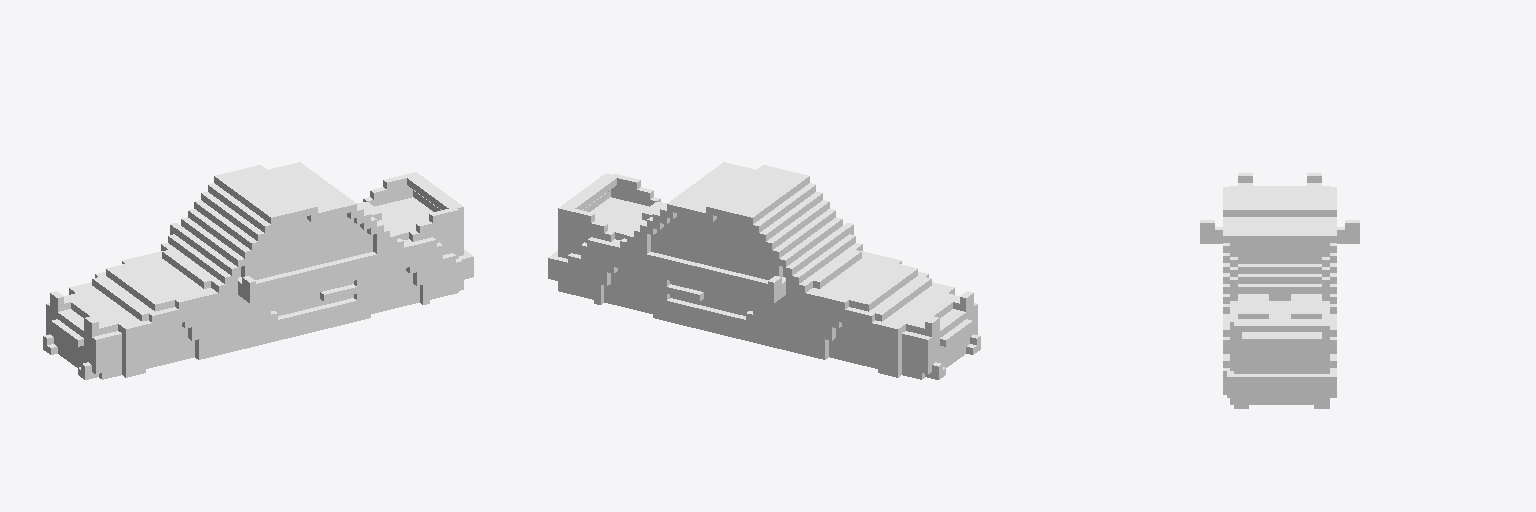
The model's file is mr2Grandao.obj.
3 views of the same model, side by side, from view 1: azimuth 30°, elevation 25°; view 2: azimuth 150°, elevation 25°; view 3: azimuth 270°, elevation 25° (orthographic).
Visible parts, largest first — view 1: object 1; view 2: object 1; view 3: object 1.
Boxes of the visible parts, <box> form: object 1: <box>43,162,473,379</box>; object 1: <box>548,162,980,379</box>; object 1: <box>1200,173,1359,408</box>.
Bounding box in the file's own units: 11.6 × 3.6 × 4.2.